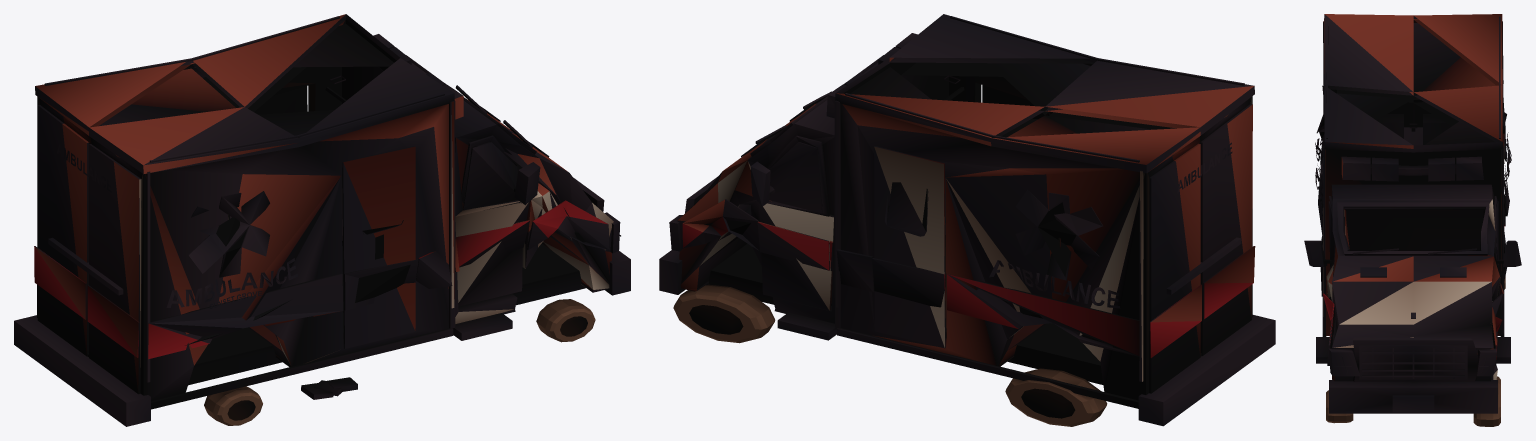
File: model.burned.lod1.glb
3 views of the same model, side by side, from view 1: azimuth 30°, elevation 25°; view 2: azimuth 150°, elevation 25°; view 3: azimuth 270°, elevation 25° (orthographic). The views are drawn at different scales.
Visible parts, largest first — view 1: body_pal_uiDark, body_pal_brick, body_pal_picketWhite, body_pal_survivorRed, wheelFL_pal_sidewalk, wheelRL_pal_sidewalk; view 2: body_pal_uiDark, body_pal_brick, body_pal_picketWhite, body_pal_survivorRed, wheelFR_pal_sidewalk, wheelRR_pal_sidewalk; view 3: body_pal_uiDark, body_pal_brick, body_pal_picketWhite, wheelFR_pal_sidewalk, body_pal_survivorRed, wheelFL_pal_sidewalk.
Boxes of the visible parts, x1,y1,x2,y2 form: body_pal_uiDark: [14, 14, 630, 426]; body_pal_brick: [34, 14, 611, 393]; body_pal_picketWhite: [37, 83, 613, 383]; body_pal_survivorRed: [34, 200, 607, 359]; wheelFL_pal_sidewalk: [536, 299, 595, 342]; wheelRL_pal_sidewalk: [204, 386, 262, 425]; body_pal_uiDark: [659, 14, 1275, 426]; body_pal_brick: [678, 57, 1255, 366]; body_pal_picketWhite: [700, 84, 1252, 394]; body_pal_survivorRed: [682, 217, 1253, 357]; wheelFR_pal_sidewalk: [673, 284, 775, 343]; wheelRR_pal_sidewalk: [1005, 368, 1107, 426]; body_pal_uiDark: [1304, 14, 1521, 413]; body_pal_brick: [1323, 14, 1504, 380]; body_pal_picketWhite: [1323, 89, 1504, 379]; wheelFR_pal_sidewalk: [1473, 376, 1500, 426]; body_pal_survivorRed: [1323, 224, 1504, 359]; wheelFL_pal_sidewalk: [1326, 390, 1353, 423].
Bounding box in the file's own units: 6.21 × 3.31 × 2.79.
